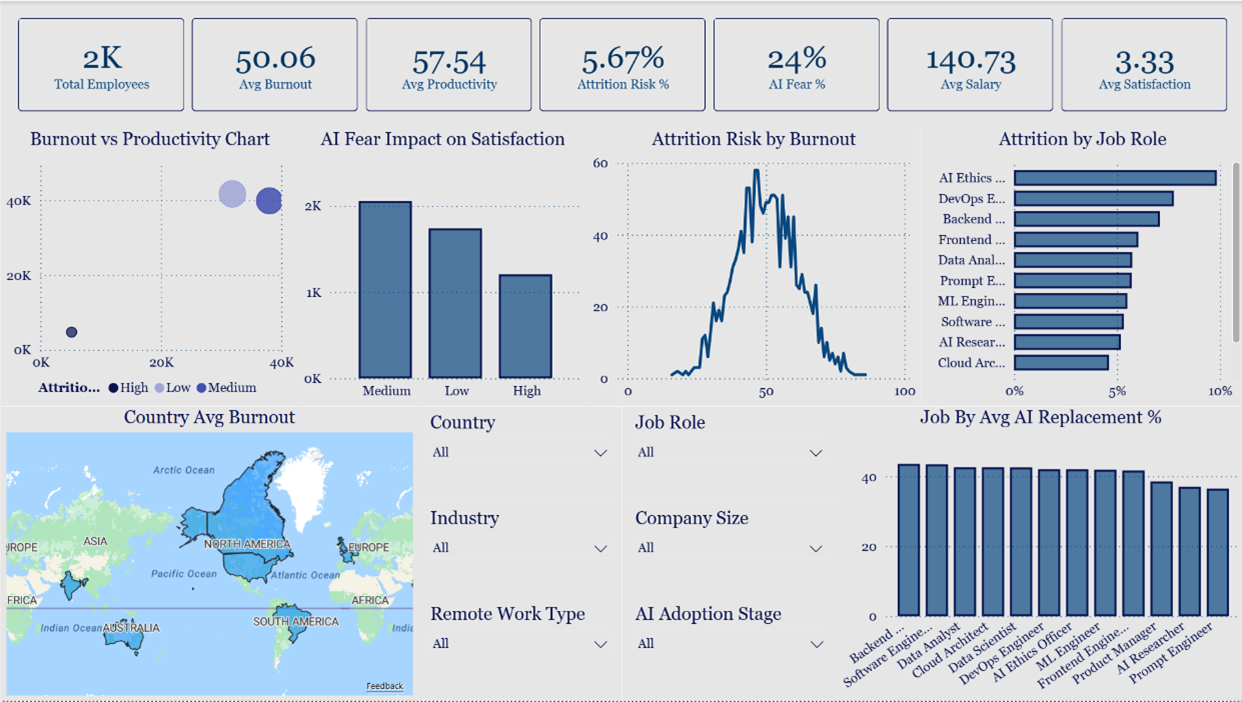

Layout of this report page (visuals, bound fields, positions):
{"tool":"powerbi","page":{"name":"Executive Workforce Intelligence","canvas":[1280,720],"ordinal":0},"visuals":[{"type":"cardVisual","fields":{"Data":["data.Total Employees","data.Avg Burnout","data.Avg Productivity","data.Attrition Risk %","data.AI Fear %","data.Avg Salary","data.Avg Satisfaction"]},"box":[0,0,1280.4,130.9],"z":0},{"type":"scatterChart","title":"Burnout vs Productivity Chart","fields":{"X":["Sum(data.burnout_score)"],"Y":["Sum(data.productivity_score)"],"Series":["data.attrition_risk"],"Size":["Sum(data.salary_usd_k)"]},"box":[0,130.9,305.9,286.2],"z":1000},{"type":"lineChart","title":"Attrition Risk by Burnout","fields":{"Category":["data.burnout_score"],"Y":["CountNonNull(data.employee_id)"]},"box":[603.7,130.9,343,286.2],"z":2000},{"type":"clusteredColumnChart","title":"AI Fear Impact on Satisfaction","fields":{"Category":["data.fear_of_ai_replacement"],"Y":["Sum(data.job_satisfaction_1_5)"]},"box":[305.9,130.9,297.8,286.2],"z":3000},{"type":"azureMap","title":"Country Avg Burnout","fields":{"Category":["data.country"]},"box":[0,417.1,428.7,302.4],"z":4000},{"type":"clusteredColumnChart","title":"Job By Avg AI Replacement %","fields":{"Category":["data.job_role"],"Y":["data.Avg AI Replacement %"]},"box":[860.9,417.1,419.5,302.4],"z":5000},{"type":"slicer","fields":{"Values":["data.country"]},"box":[428.7,417.1,210.9,98.5],"z":6000},{"type":"slicer","fields":{"Values":["data.job_role"]},"box":[639.6,417.1,221.3,98.5],"z":7000},{"type":"slicer","fields":{"Values":["data.industry"]},"box":[428.7,515.6,210.9,98.5],"z":8000},{"type":"slicer","fields":{"Values":["data.company_size"]},"box":[639.6,515.6,221.3,98.5],"z":9000},{"type":"slicer","fields":{"Values":["data.remote_work_type"]},"box":[428.7,614.1,210.9,105.4],"z":10000},{"type":"slicer","fields":{"Values":["data.ai_adoption_stage"]},"box":[639.6,614.1,222.5,105.4],"z":11000},{"type":"clusteredBarChart","title":"Attrition by Job Role","fields":{"Category":["data.job_role"],"Y":["data.Attrition Risk %"]},"box":[946.7,130.9,333.7,286.2],"z":12000}]}

Visuals, with their boxes in screenshot pixels (x1, y1, x2, y2), scaled from the page's 1280x720 canvas onto the 1242x702 screenshot:
cardVisual - data.Total Employees x data.Avg Burnout: region(0, 0, 1241, 128)
"Burnout vs Productivity Chart" scatterChart: region(0, 128, 297, 407)
"Attrition Risk by Burnout" lineChart: region(586, 128, 919, 407)
"AI Fear Impact on Satisfaction" clusteredColumnChart: region(297, 128, 586, 407)
"Country Avg Burnout" azureMap: region(0, 407, 416, 701)
"Job By Avg AI Replacement %" clusteredColumnChart: region(835, 407, 1241, 701)
slicer - data.country: region(416, 407, 621, 503)
slicer - data.job_role: region(621, 407, 835, 503)
slicer - data.industry: region(416, 503, 621, 599)
slicer - data.company_size: region(621, 503, 835, 599)
slicer - data.remote_work_type: region(416, 599, 621, 701)
slicer - data.ai_adoption_stage: region(621, 599, 837, 701)
"Attrition by Job Role" clusteredBarChart: region(919, 128, 1241, 407)
